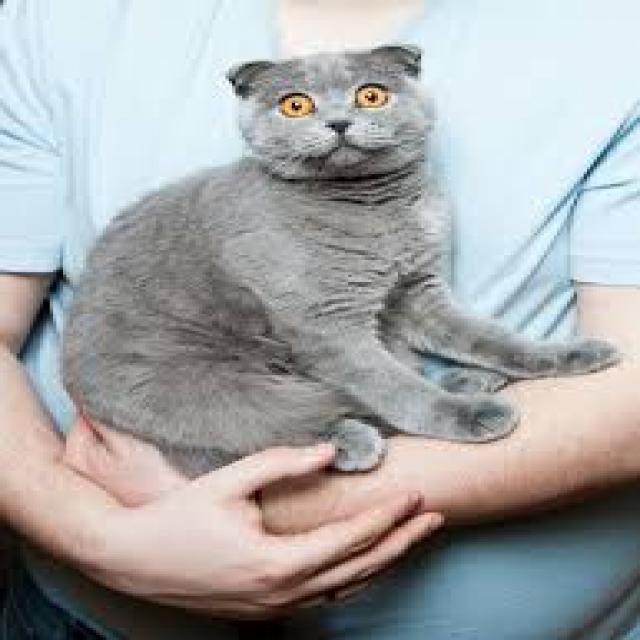Cat: (53, 39, 626, 476)
